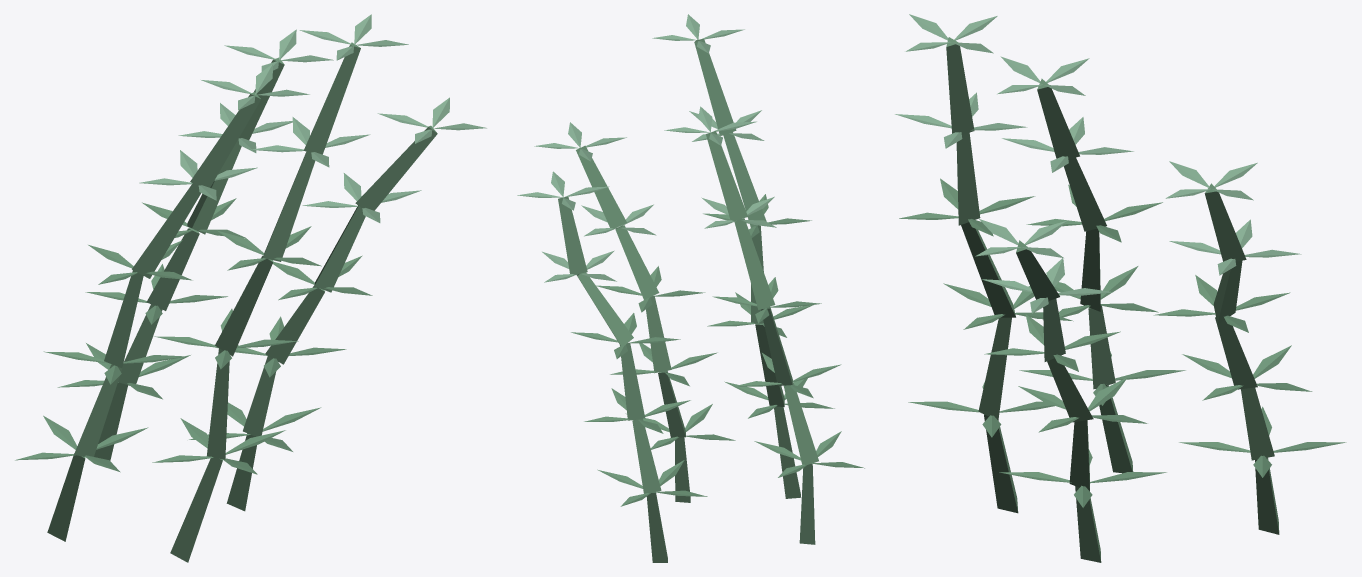
Rendered from shui.huwei__summer.glb.
3 renders of one model, left to right at view 1: azimuth 30°, elevation 25°; view 2: azimuth 150°, elevation 25°; view 3: azimuth 270°, elevation 25°, orthographic. The views are drawn at different scales.
Parts seen in each view (by area): view 1: shui.huwei__summer; view 2: shui.huwei__summer; view 3: shui.huwei__summer.
Boxes of the visible parts, box(x1,y1,x2,y2) form: shui.huwei__summer: box(15, 14, 486, 562); shui.huwei__summer: box(517, 14, 864, 562); shui.huwei__summer: box(895, 14, 1346, 562).
Size of the model in its own units: 0.7743 by 0.896 by 0.6663.
